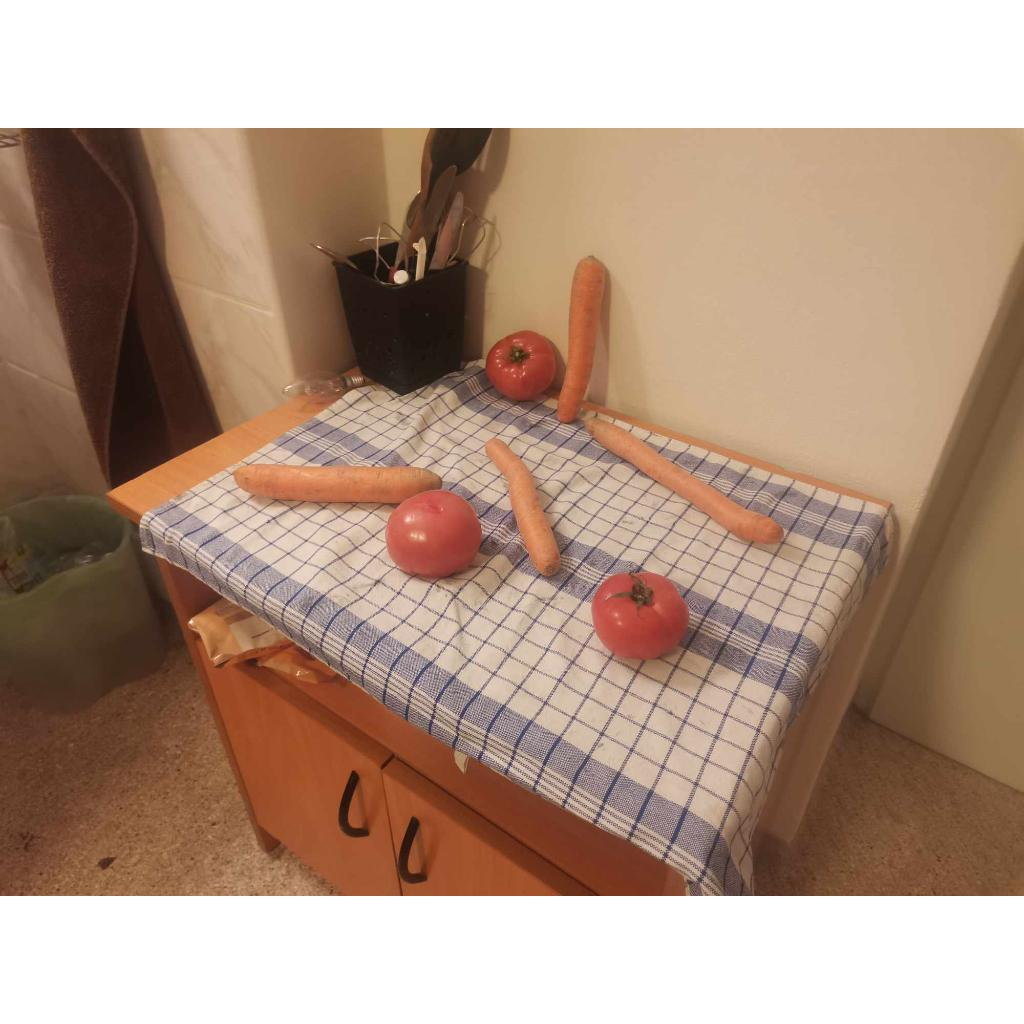carrot: (586, 418, 784, 544), (486, 438, 560, 576), (234, 464, 442, 503), (558, 256, 606, 422)
tomato: (592, 572, 690, 659), (386, 490, 482, 578), (486, 330, 556, 400)
